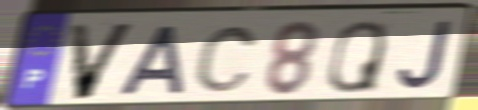8: (264, 18, 322, 97)
A: (117, 23, 188, 98)
C: (192, 24, 261, 95)
J: (395, 18, 454, 91)
Q: (325, 18, 389, 95)
V: (67, 20, 140, 103)
